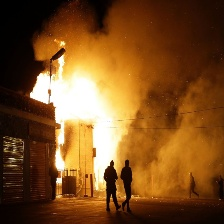fire: (29, 47, 119, 191)
smoke: (125, 10, 224, 200)
